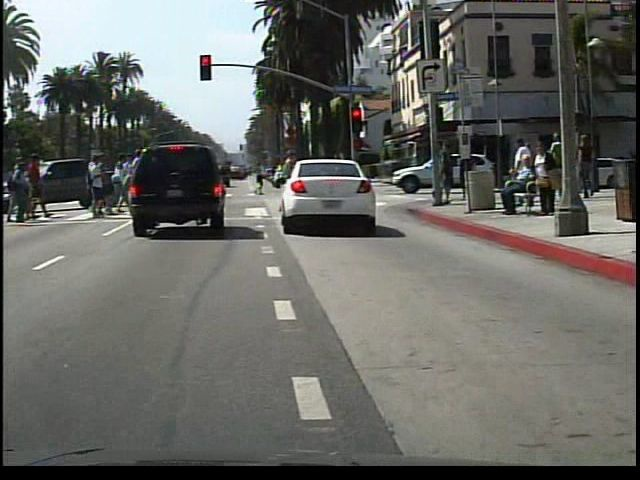person: (534, 139, 566, 220), (501, 154, 543, 215), (273, 147, 306, 215)
